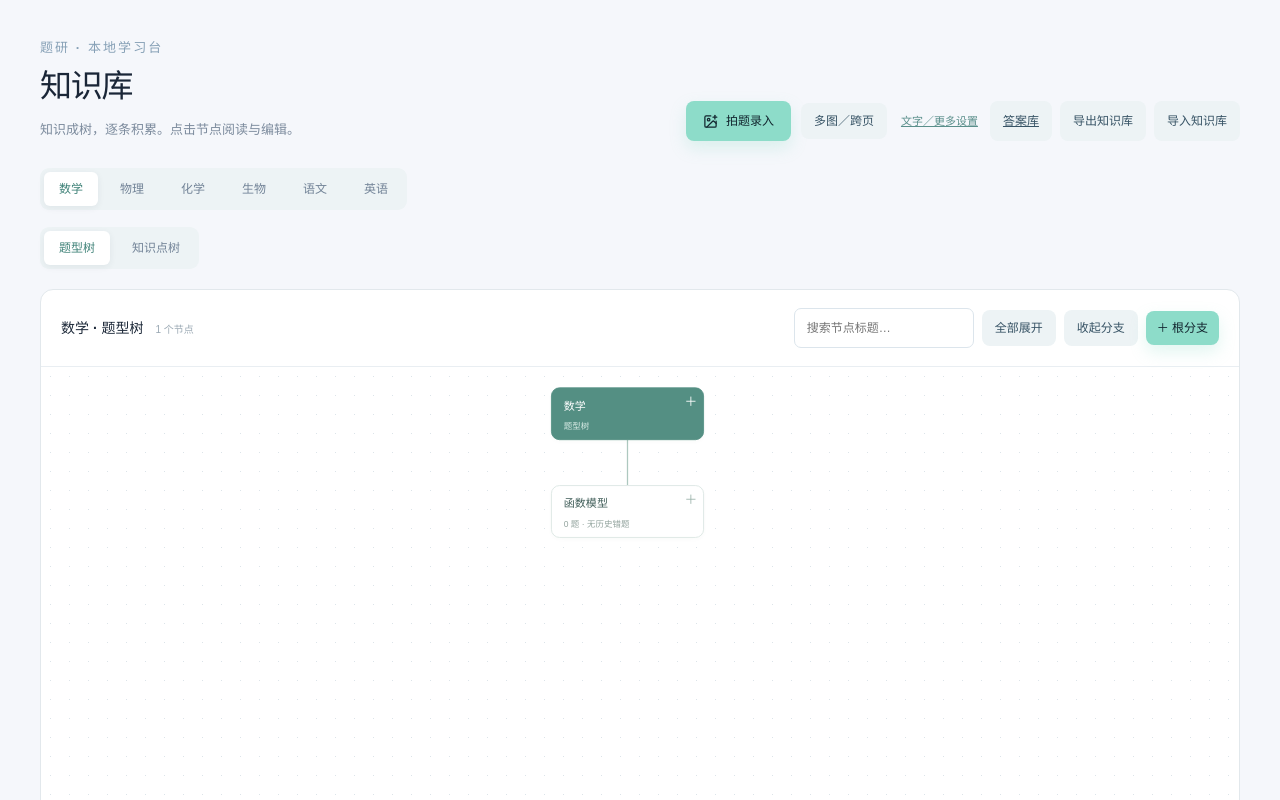
Test case: persistent knowledge workspace › switches independent pages and entry detail without rendering all bodies
The image size is (1280, 800).
Click the button named "阅读函数模型" at (627, 512), box [552,486,703,537]
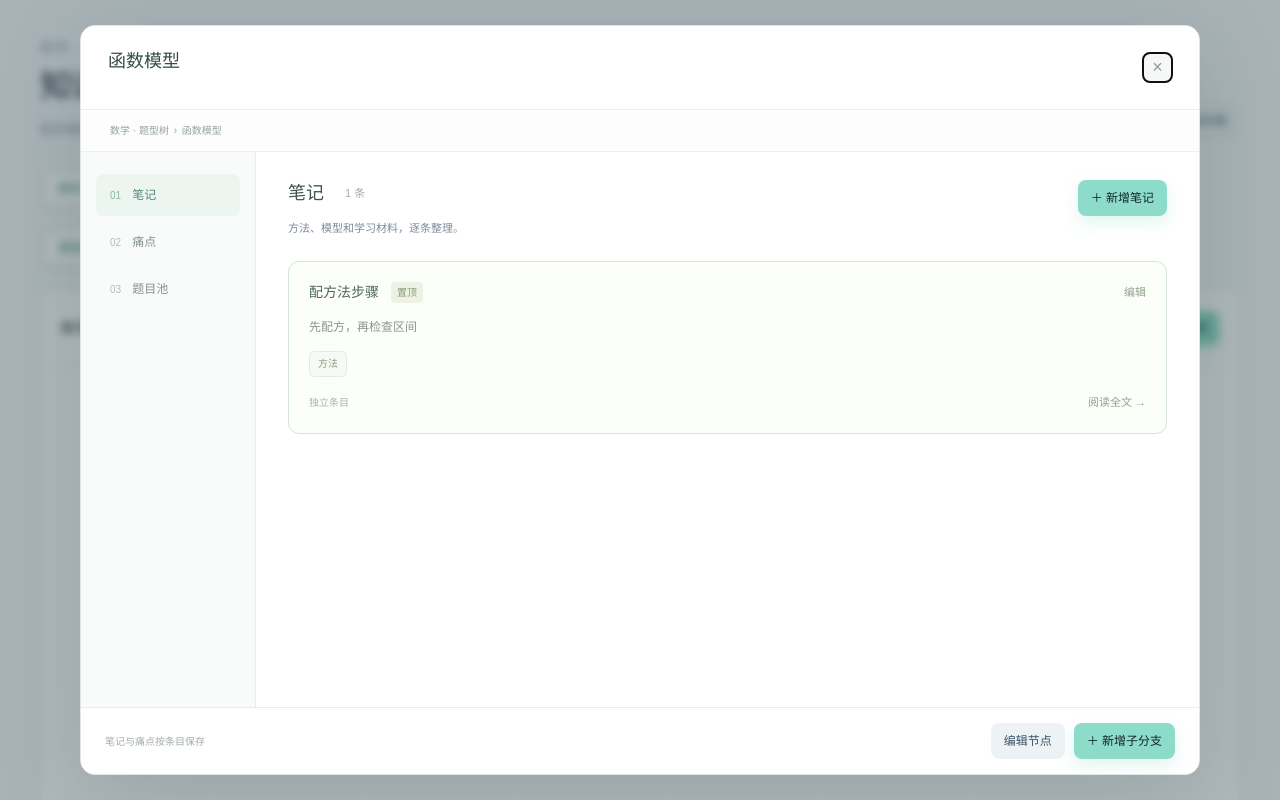
Click the button "配方法步骤" at (344, 292), box [309,282,379,302]
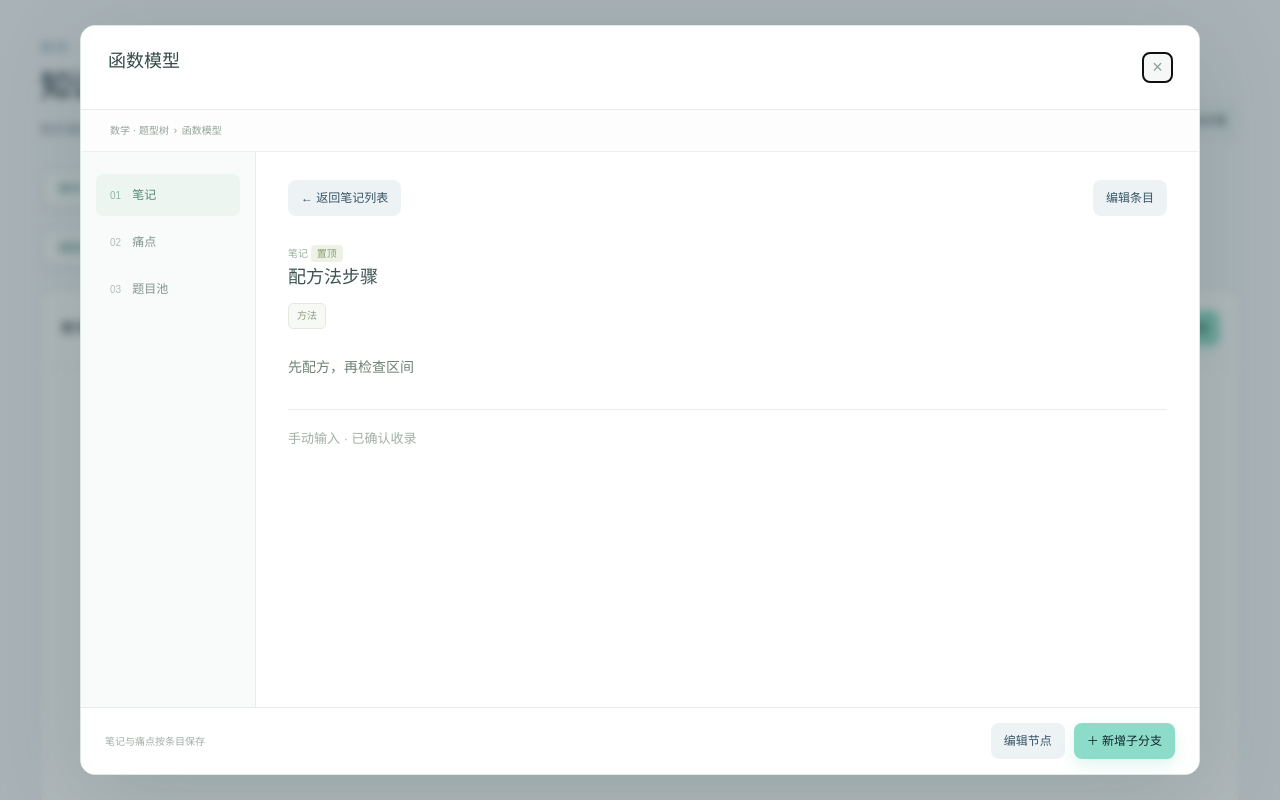
Result: the text "先配方，再检查区间" is shown at [288,359,414,375]
Click the tab "02 痛点" at (168, 242), box [96,221,240,263]
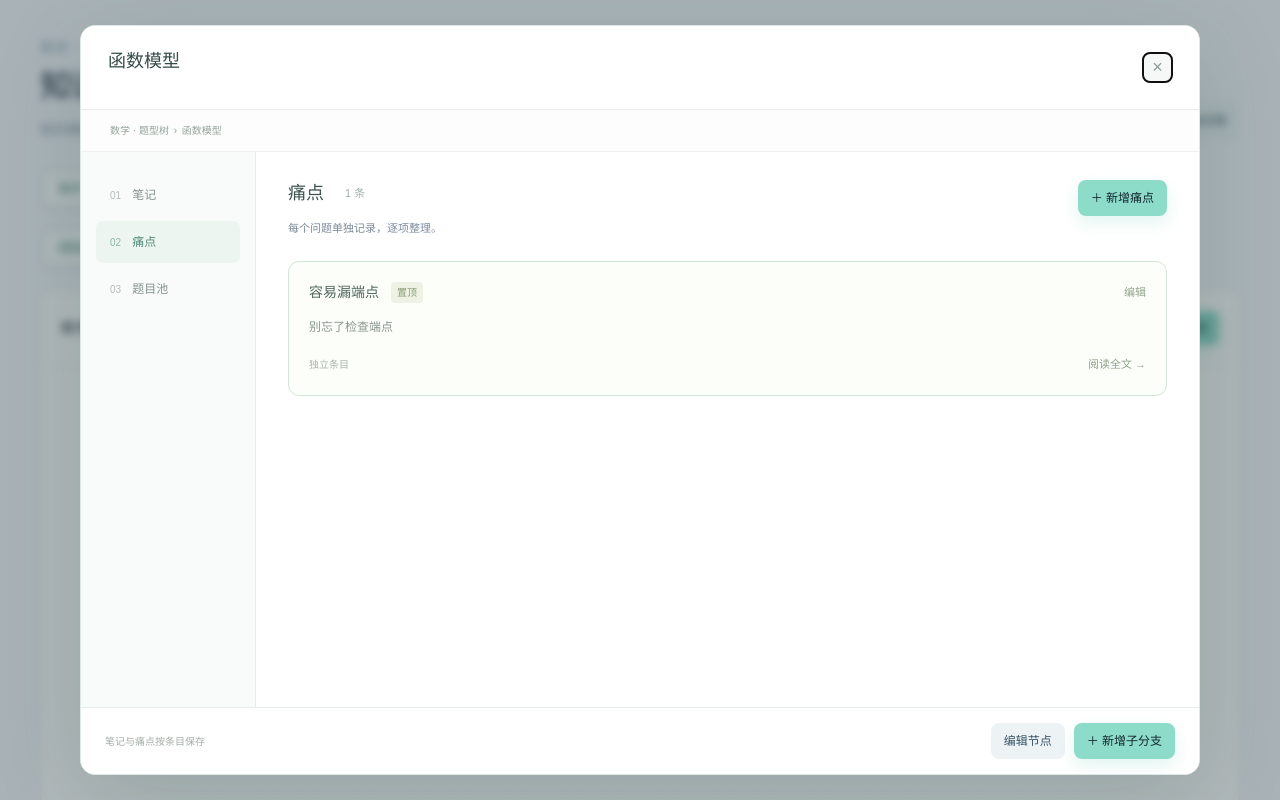
Result: the number of panels is 1 at [288,180,1167,396]
Result: the text "先配方，再检查区间" is gone
Result: the button "容易漏端点" is shown at [309,282,379,302]
